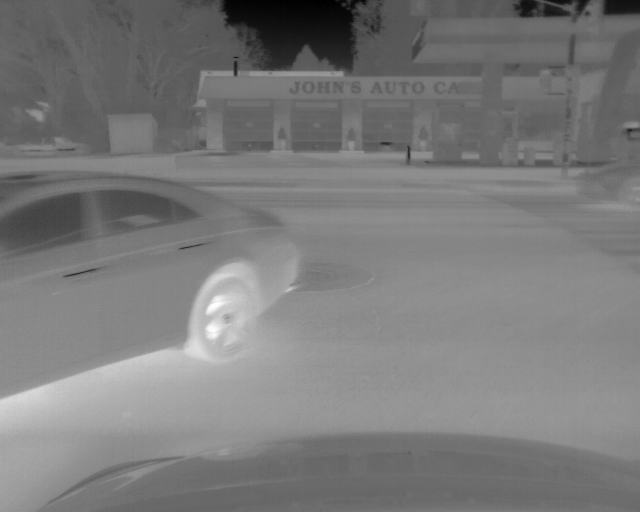car: (1, 169, 301, 402), (574, 20, 640, 210)
